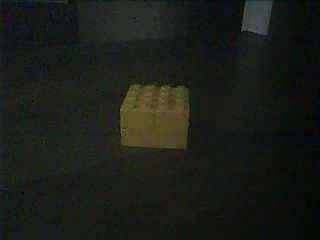lego: (119, 82, 190, 150)
